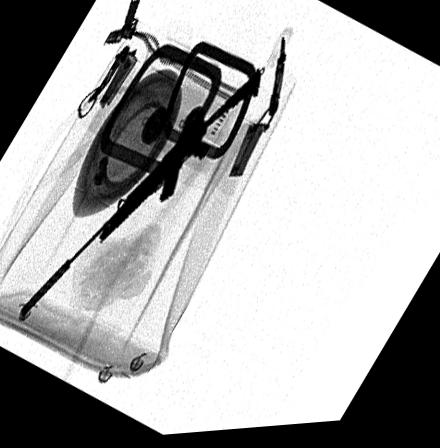Gun: (15, 66, 263, 319)
